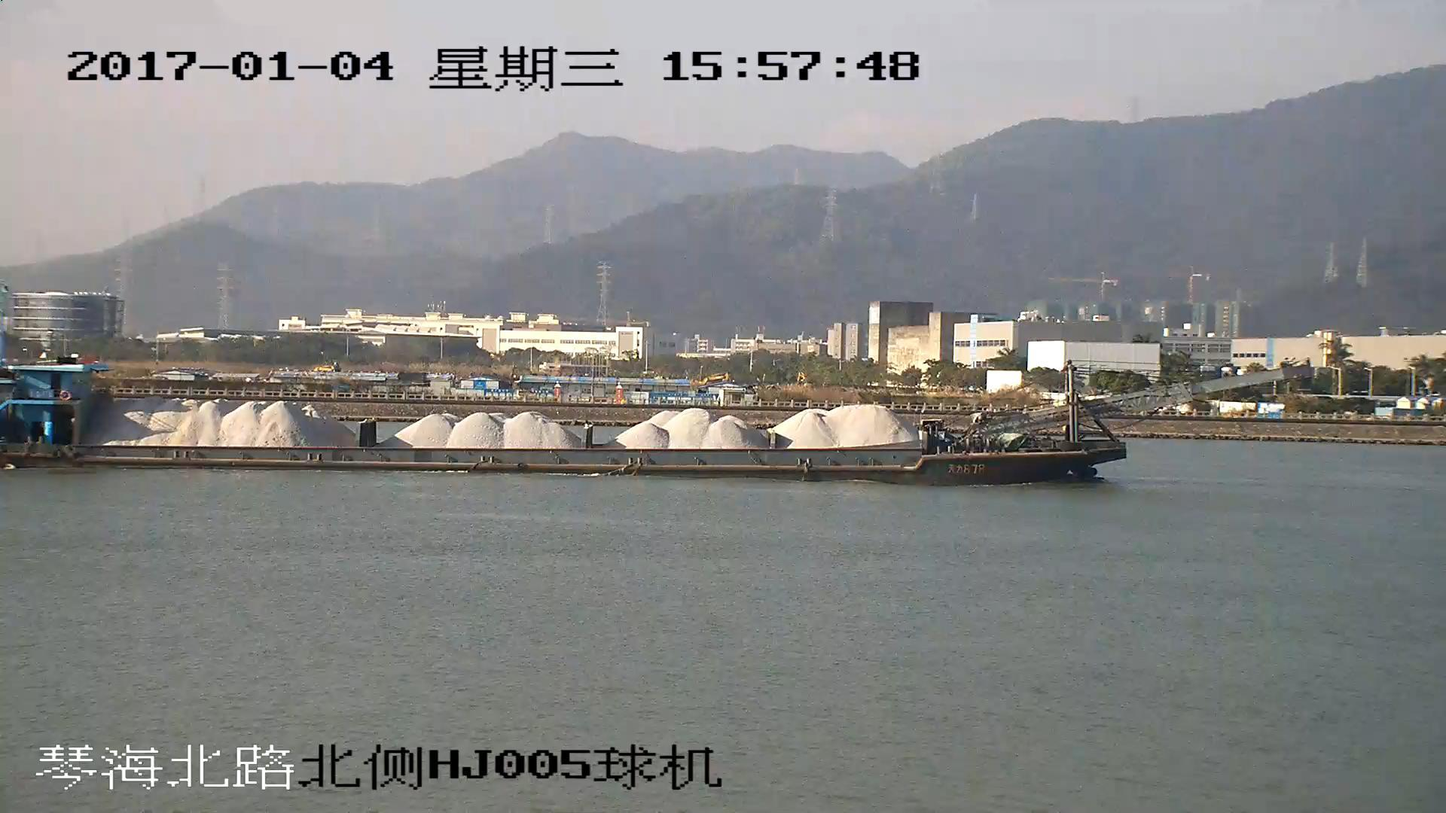ore carrier: (0, 363, 1292, 473)
